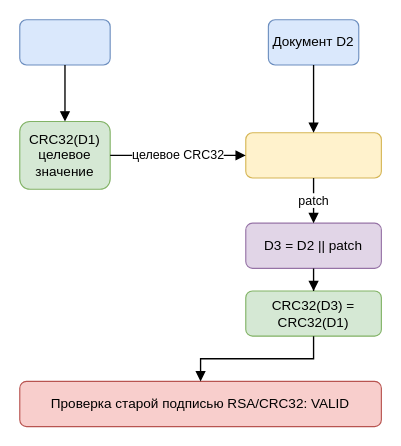
This 401x446 diagram has some shape labels left out. The shapes that lost their labels are listed below. From the top down, each one's box as (x1, y1, x2, y2) in pixels, then its label:
(19, 19, 110, 65): Документ D1
(245, 132, 381, 178): Расчёт patch по линейности CRC32
